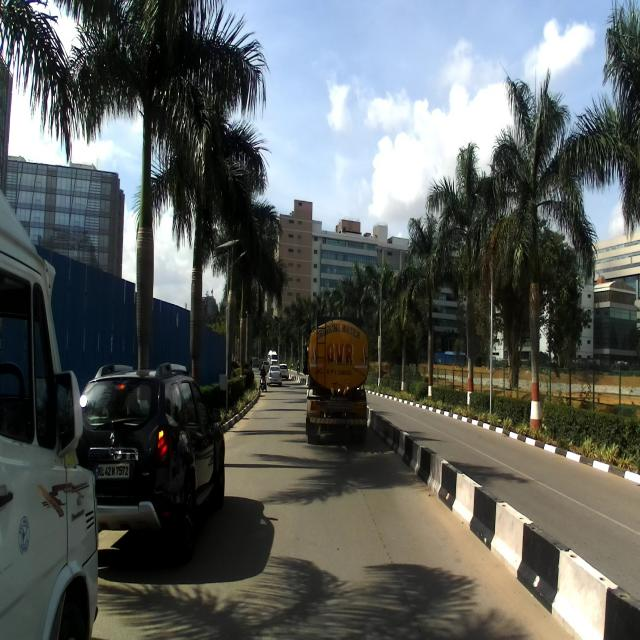Car_Renault: (78, 361, 228, 566)
mini-bus: (0, 189, 100, 639)
truck: (305, 321, 371, 448)
